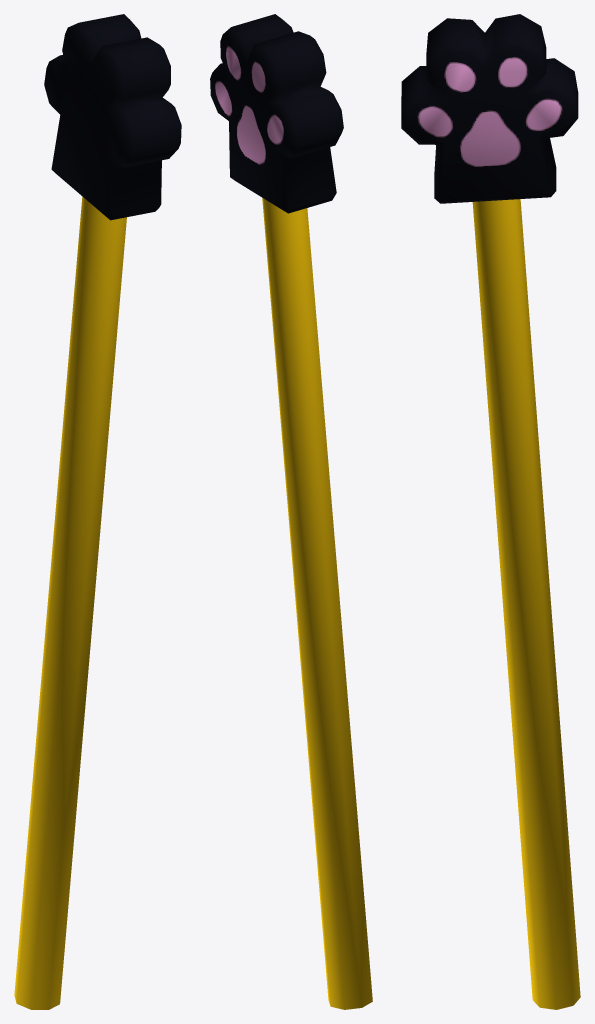
File: PriestStaff.fbx
The picture shows the model from 3 angles, left to right: view 1: azimuth 30°, elevation 25°; view 2: azimuth 210°, elevation 25°; view 3: azimuth 270°, elevation 25°; orthographic projection. The views are drawn at different scales.
Parts seen in each view (by area): view 1: PriestStaff; view 2: PriestStaff; view 3: PriestStaff.
Boxes of the visible parts, x1,y1,x2,y2 form: PriestStaff: [14, 14, 181, 1009]; PriestStaff: [210, 14, 372, 1009]; PriestStaff: [401, 14, 580, 1009].
Size of the model in its own units: 7.49 by 74.63 by 12.15.
Materials: 1 (1 with a texture image).
